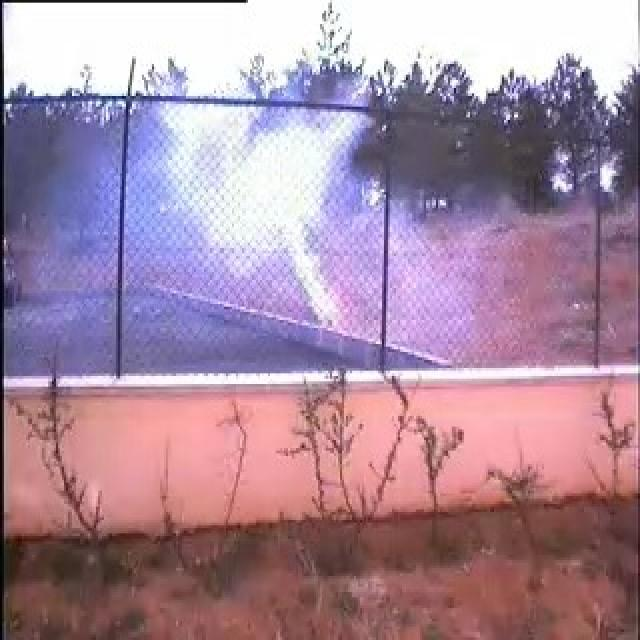smoke: (123, 92, 423, 370)
